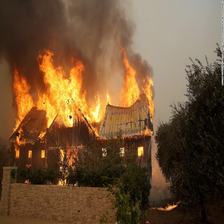fire: (6, 50, 164, 145)
